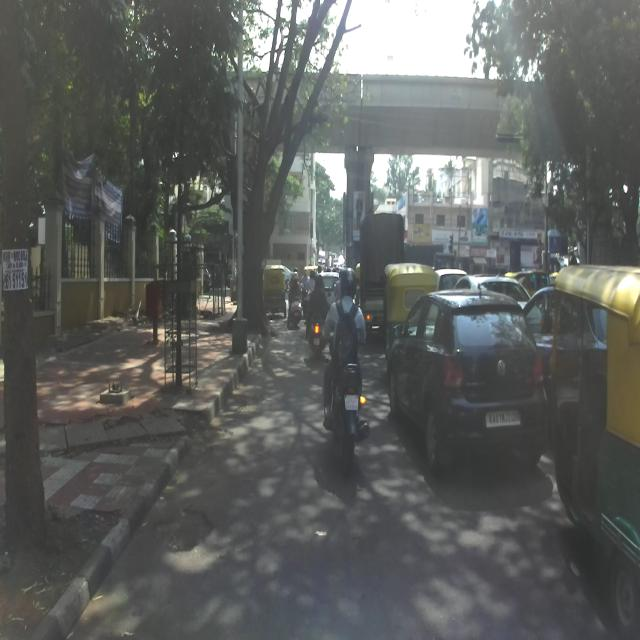auto ahead at: (547, 274, 640, 628)
car ahead at: (389, 283, 545, 484)
motorcycle ahead at: (322, 356, 372, 468)
tree ahead at: (1, 123, 52, 546), (243, 143, 278, 336), (162, 206, 194, 385)
